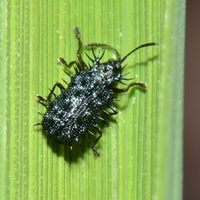insect: (36, 27, 157, 156)
